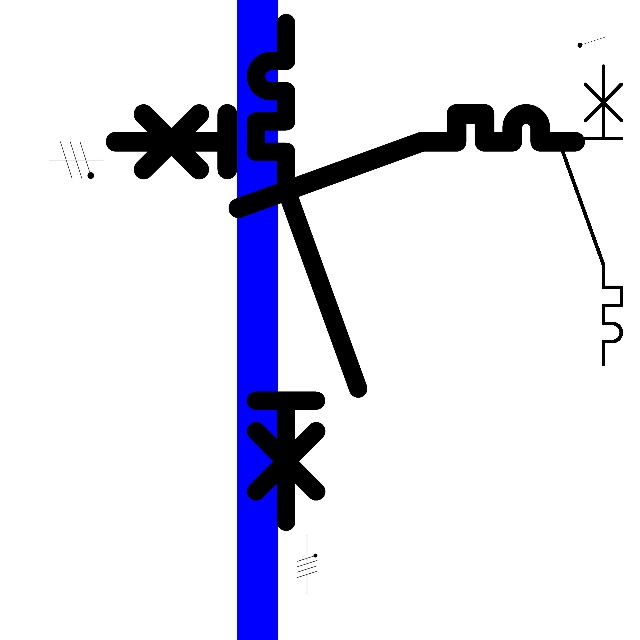interruptor_termomagnetico: (243, 10, 371, 535), (103, 102, 586, 220), (553, 58, 629, 371)
